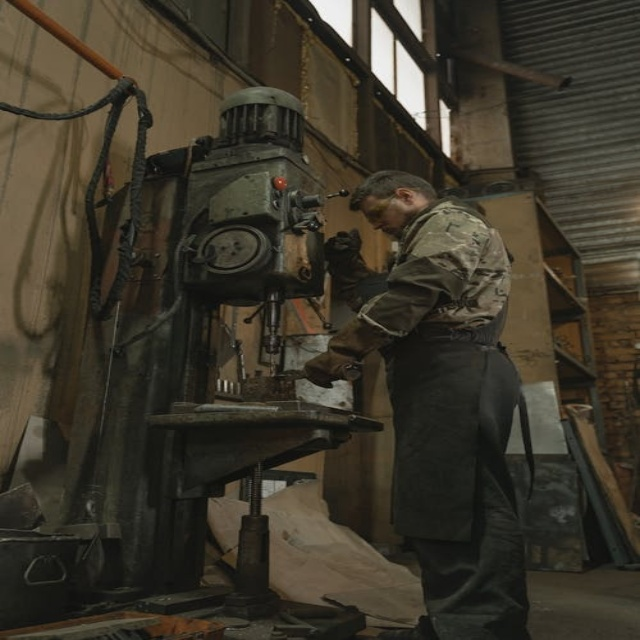Gafas: (357, 193, 396, 221)
Guantes: (300, 313, 406, 393), (319, 226, 370, 288)
Sin_mascara: (369, 208, 413, 237)
